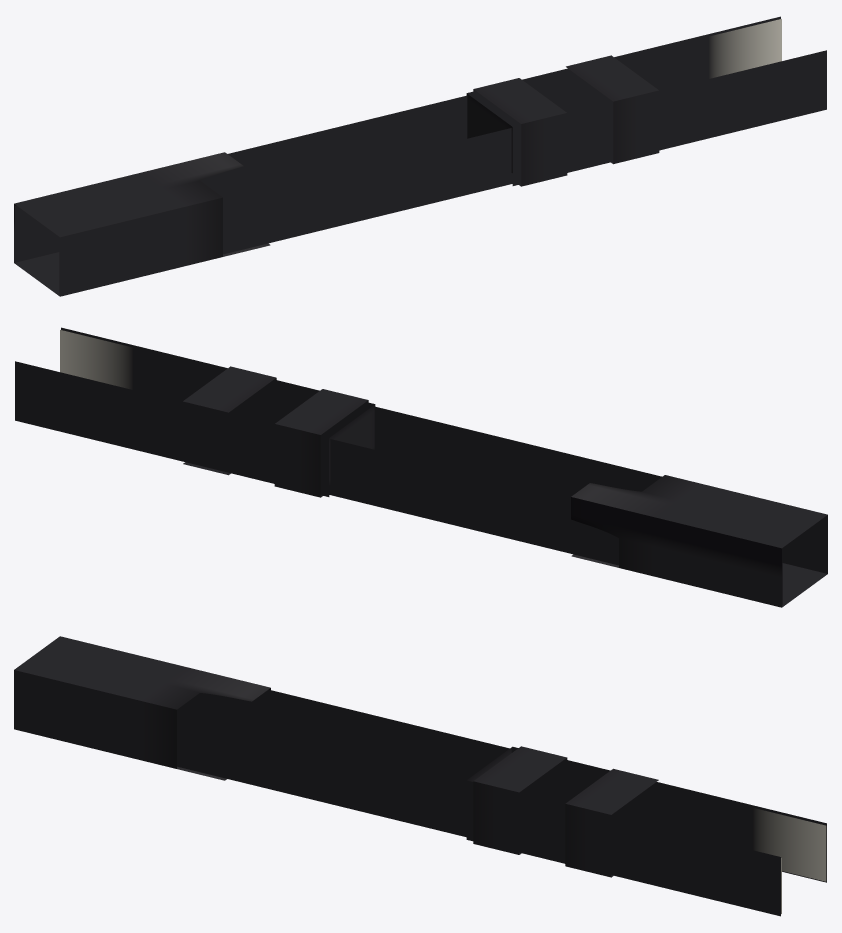
Rendered from section-10.obj.
The picture shows the model from 3 angles, top to bottom: view 1: azimuth 30°, elevation 25°; view 2: azimuth 150°, elevation 25°; view 3: azimuth 330°, elevation 25°; orthographic projection.
Size of the model in its own units: 1 by 0.078 by 0.108.
